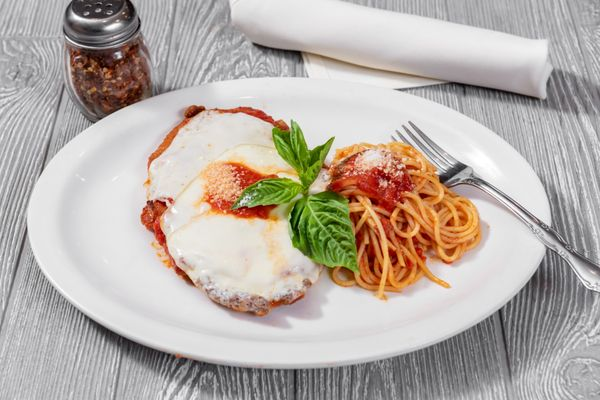sandwich: (224, 1, 554, 101)
soup: (141, 102, 324, 318)
